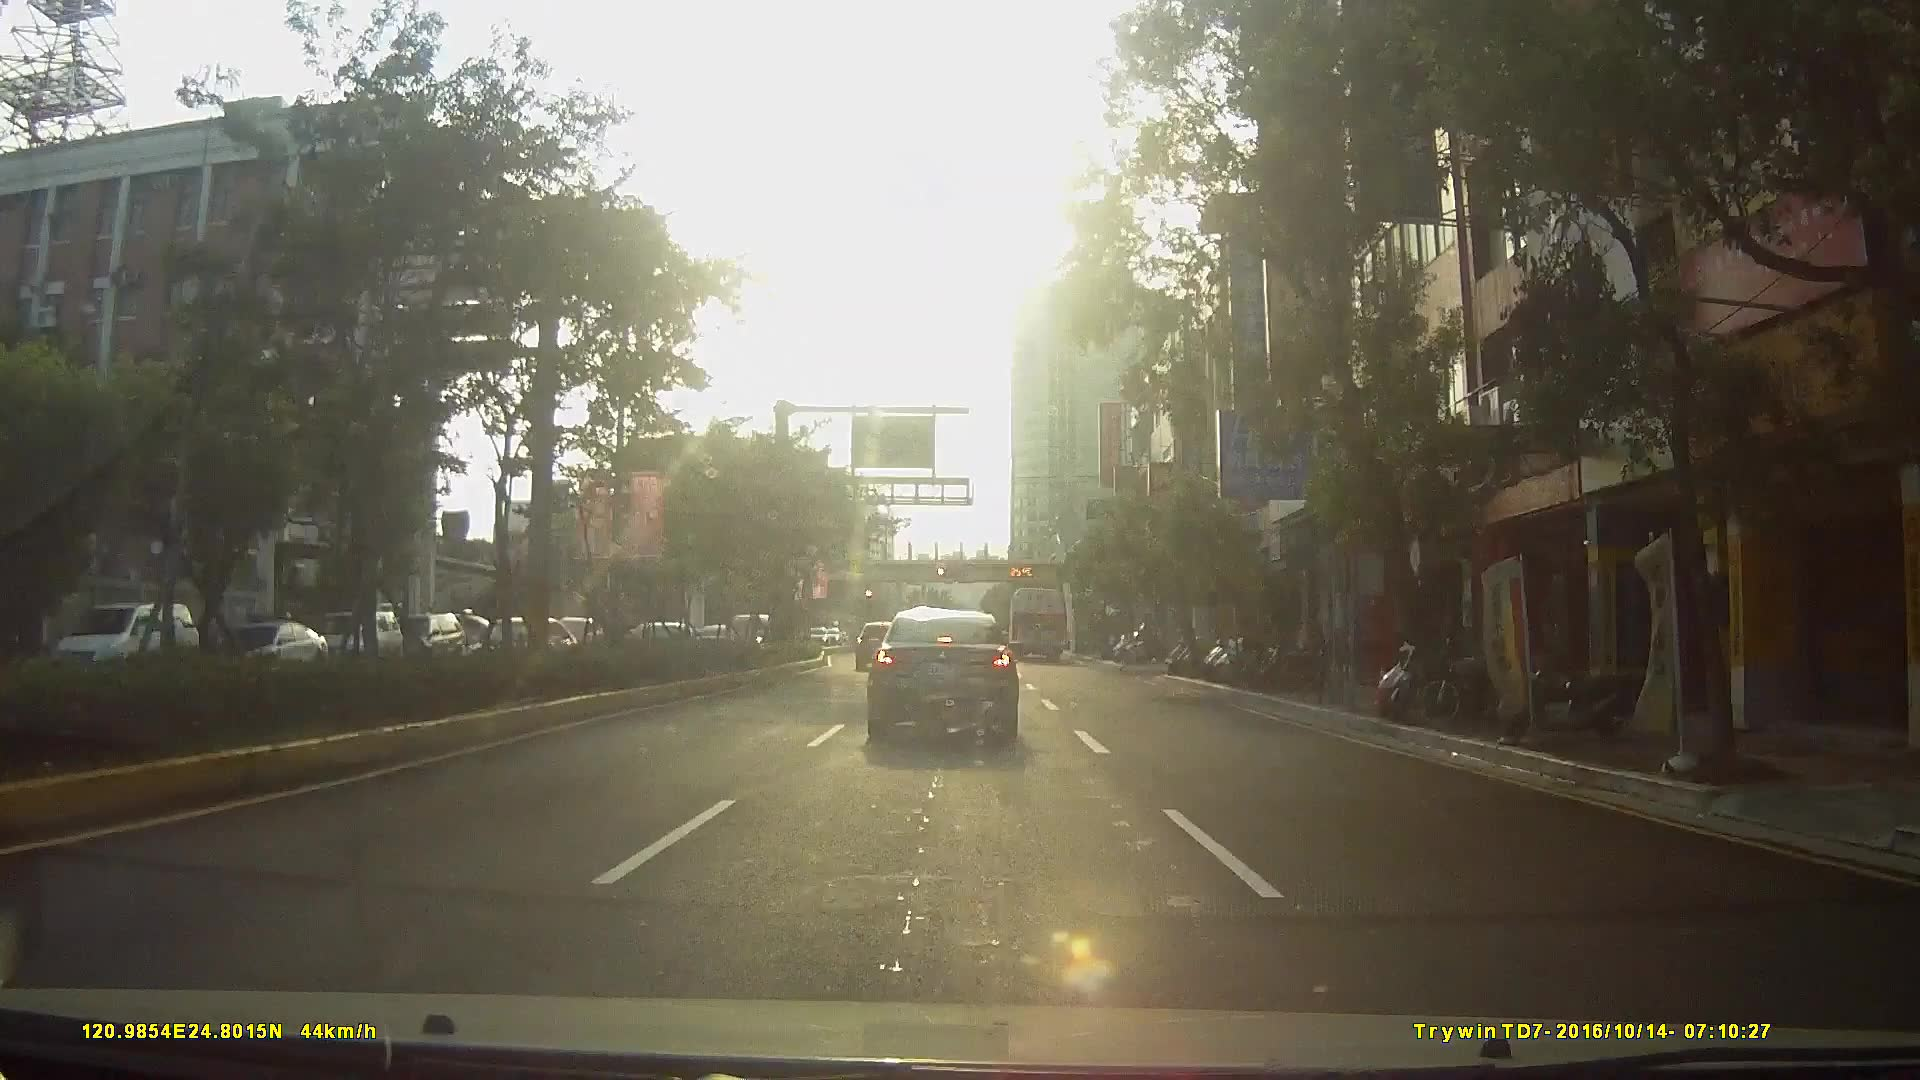vehicle: (862, 607, 1018, 740), (44, 601, 193, 679), (202, 620, 336, 688), (314, 609, 400, 666), (1005, 582, 1068, 658), (389, 612, 462, 665), (483, 612, 546, 651), (852, 621, 897, 670)
